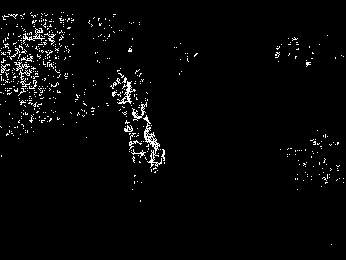person: (127, 104, 165, 186), (109, 68, 132, 124)
